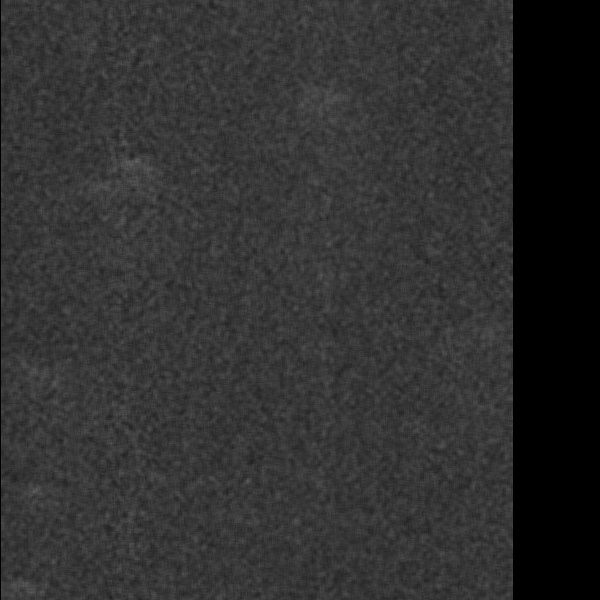spark: (93, 150, 160, 173)
